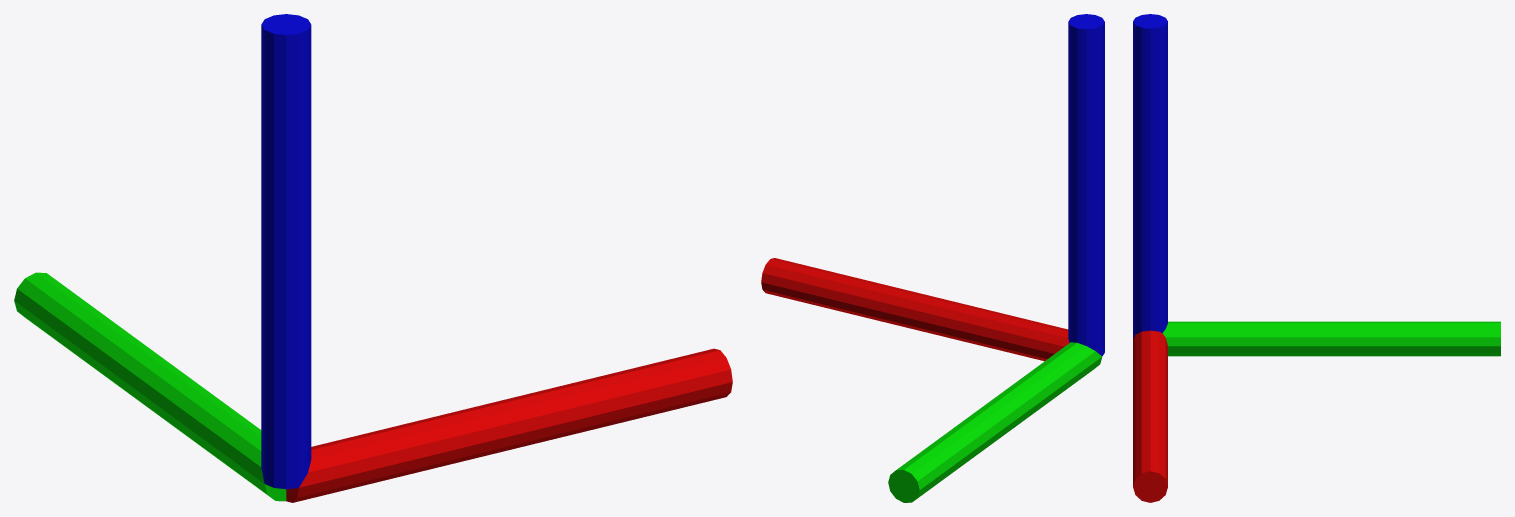
Rendered from basis.fbx.
3 renders of one model, left to right at view 1: azimuth 30°, elevation 25°; view 2: azimuth 150°, elevation 25°; view 3: azimuth 270°, elevation 25°, orthographic. The views are drawn at different scales.
Parts seen in each view (by area): view 1: Axes; view 2: Axes; view 3: Axes.
Boxes of the visible parts, x1,y1,x2,y2 form: Axes: (14, 14, 732, 502); Axes: (761, 14, 1104, 502); Axes: (1133, 14, 1500, 502).
Size of the model in its own units: 105 by 105 by 105.
